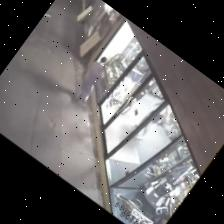person: (76, 58, 106, 104)
